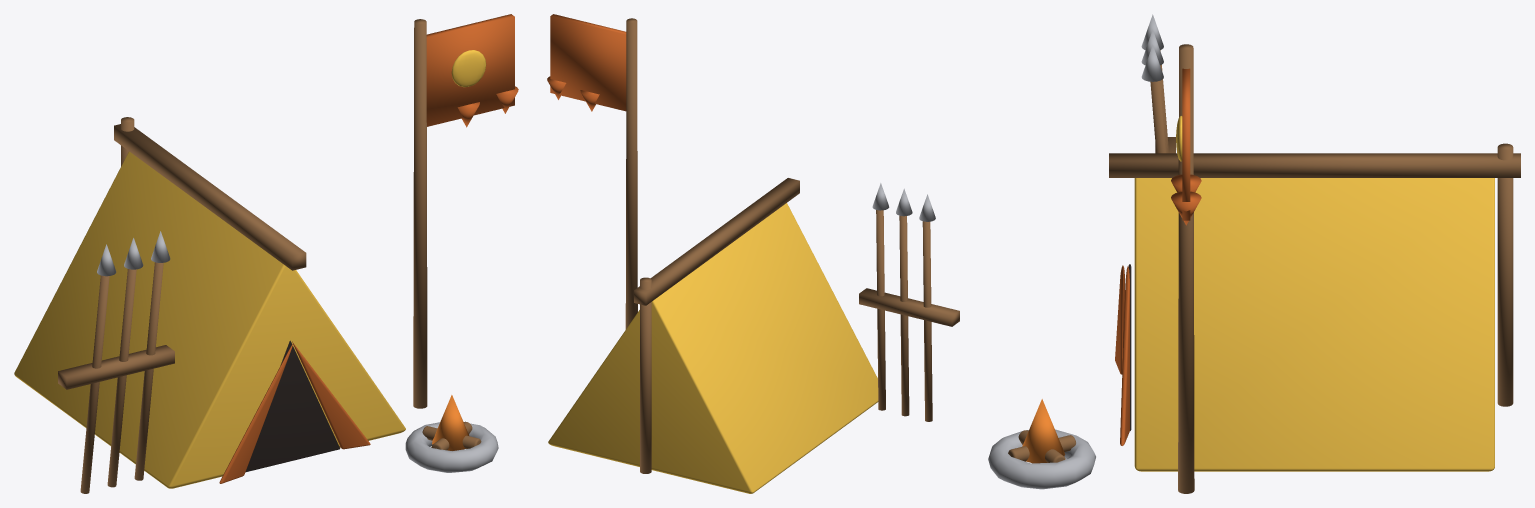
The model's file is WarParty.fbx.
3 views of the same model, side by side, from view 1: azimuth 30°, elevation 25°; view 2: azimuth 150°, elevation 25°; view 3: azimuth 270°, elevation 25° (orthographic). The views are drawn at different scales.
Parts seen in each view (by area): view 1: WarParty; view 2: WarParty; view 3: WarParty.
Part boxes in pixels (x1,y1,x2,y2): WarParty: [14, 14, 518, 493]; WarParty: [547, 14, 959, 493]; WarParty: [988, 14, 1520, 493].
Size of the model in its own units: 1.2 by 0.957 by 1.03.
